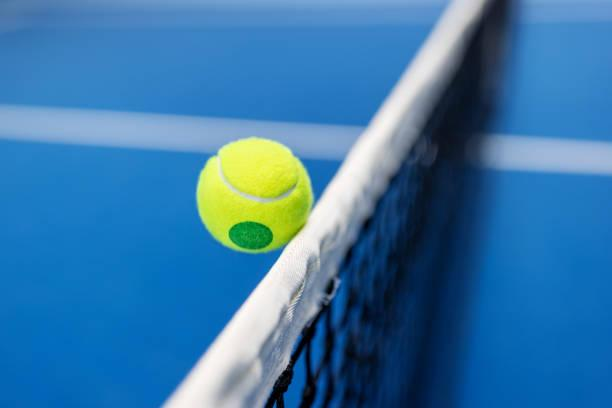ball_tennis: (195, 136, 315, 255)
